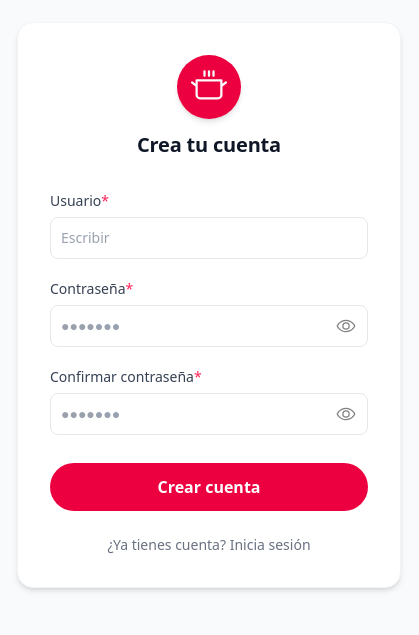
Test: AuthForm › Modo Register › muestra errores cuando se envía el formulario de registro con campos vacíos
The image size is (419, 635).
Step 1. Click the button "Crear cuenta" → (209, 487), box left=50, top=463, right=368, bottom=511
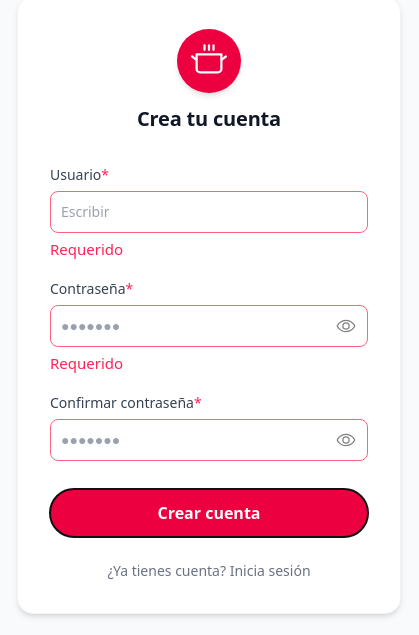
expect the text "Requerido" below "Usuario" is shown: met, box left=50, top=239, right=123, bottom=259
